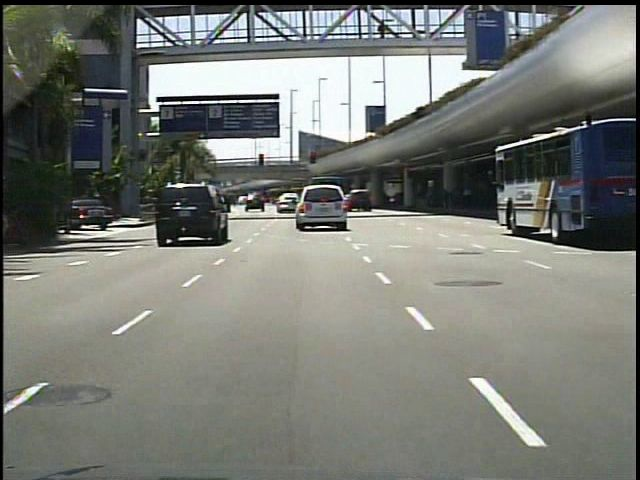person: (369, 20, 387, 45)
